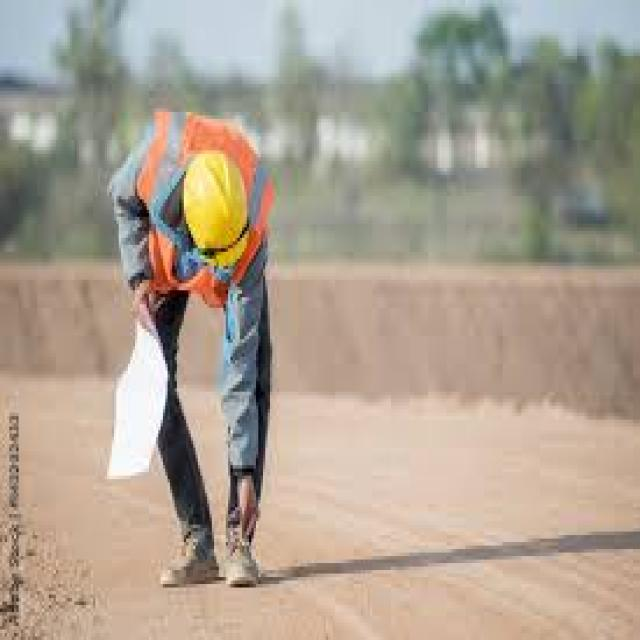shoes: (158, 526, 223, 593), (222, 524, 262, 590)
